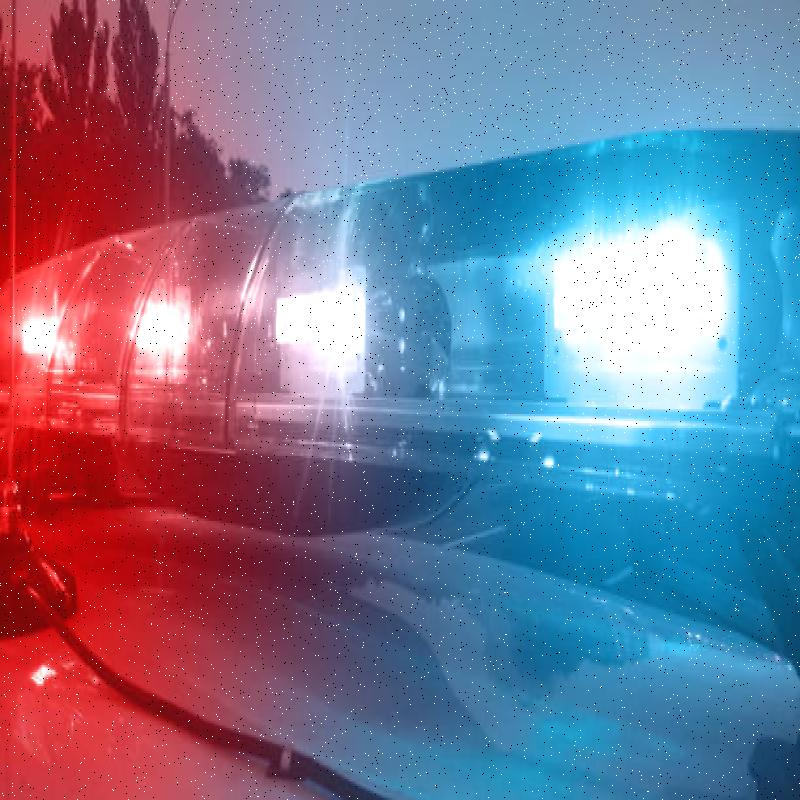AmbulanceSiren: (0, 112, 800, 546)
